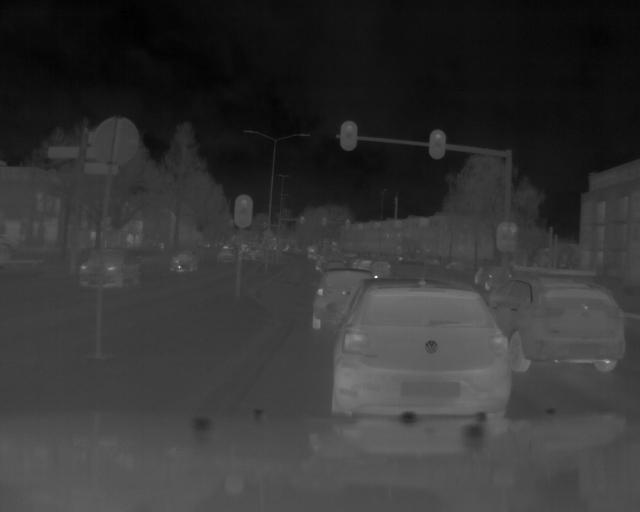car: (332, 277, 513, 423), (486, 274, 627, 377), (312, 270, 376, 333), (80, 248, 148, 288), (167, 250, 201, 275)
